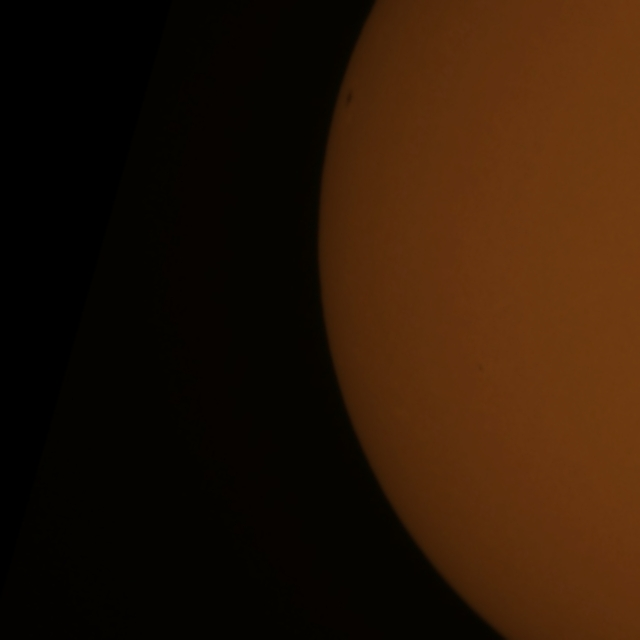sunspot: (342, 88, 355, 111)
